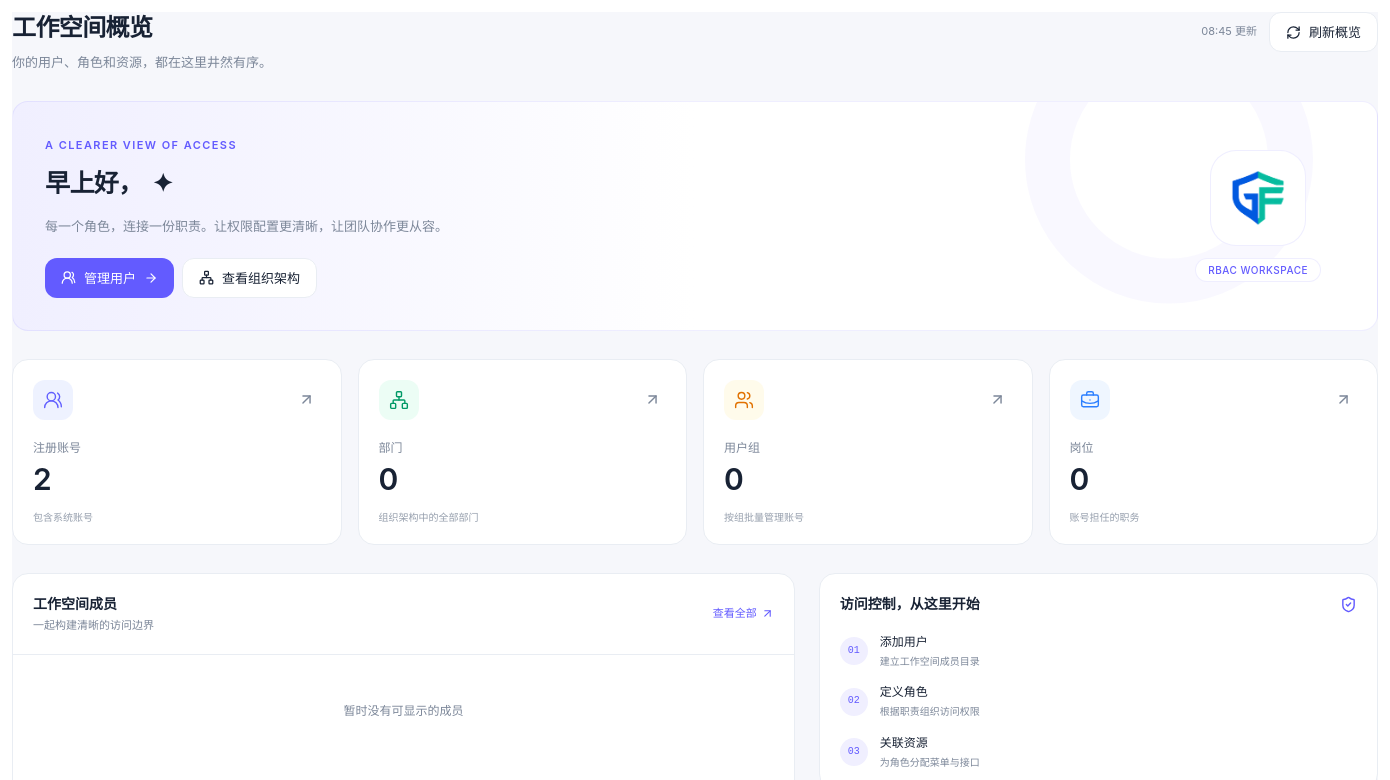
Scenario: dashboard › shows and loads only the cards of pages the user may open
Click the button "刷新概览" at (1324, 32), box 1269,12 -> 1378,52
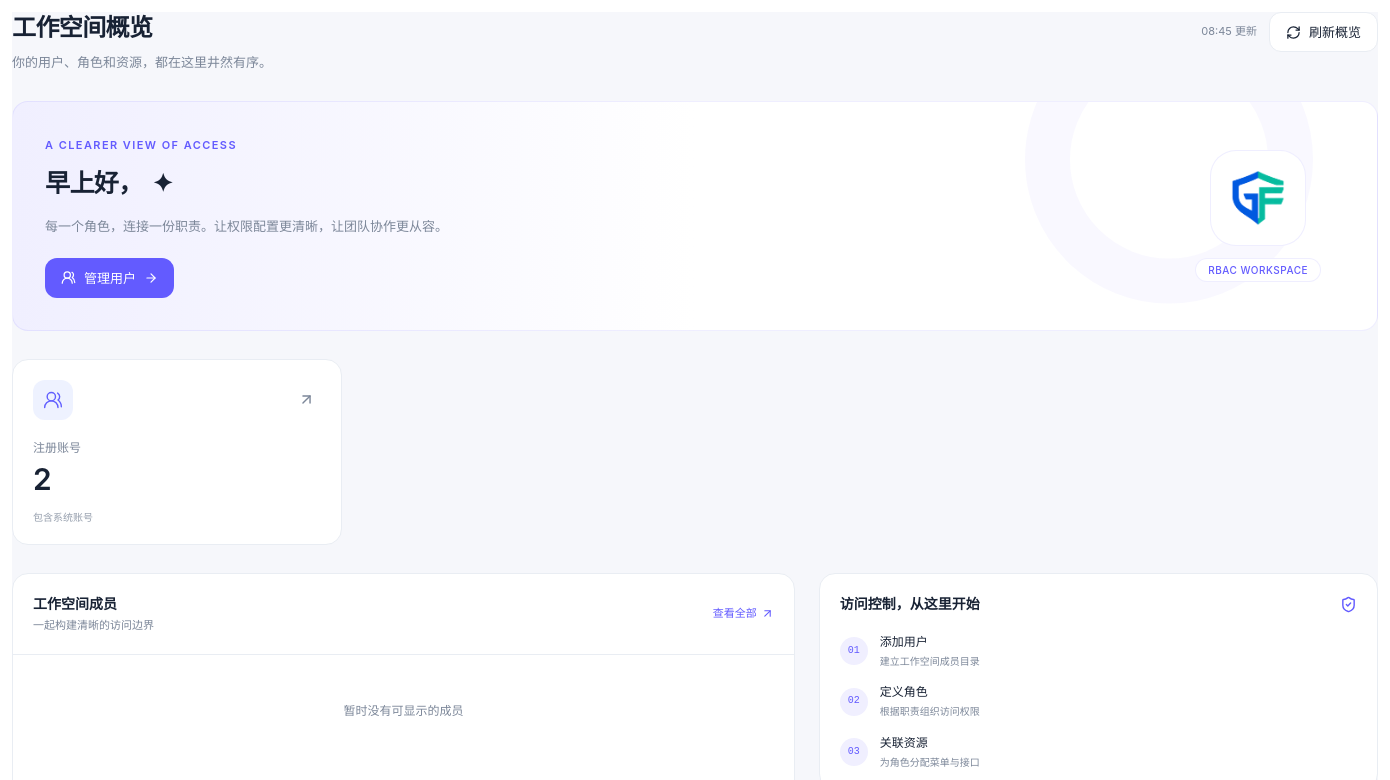
Expected: the text "用户组" is gone
